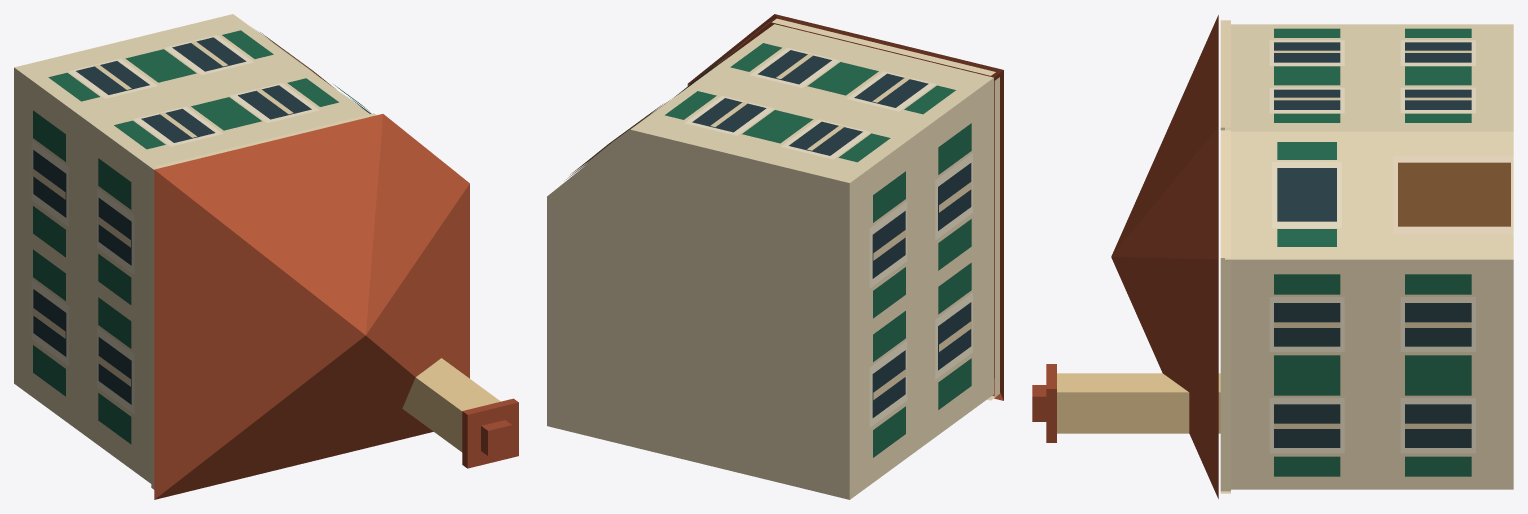
The model's file is house-2.obj.
The picture shows the model from 3 angles, left to right: view 1: azimuth 30°, elevation 25°; view 2: azimuth 150°, elevation 25°; view 3: azimuth 270°, elevation 25°; orthographic projection.
Bounding box in the file's own units: 2.09 × 2.09 × 2.75.
